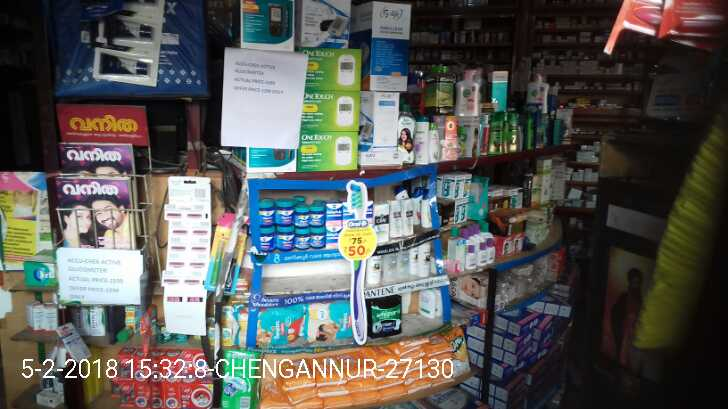vicks: (251, 198, 348, 255)
